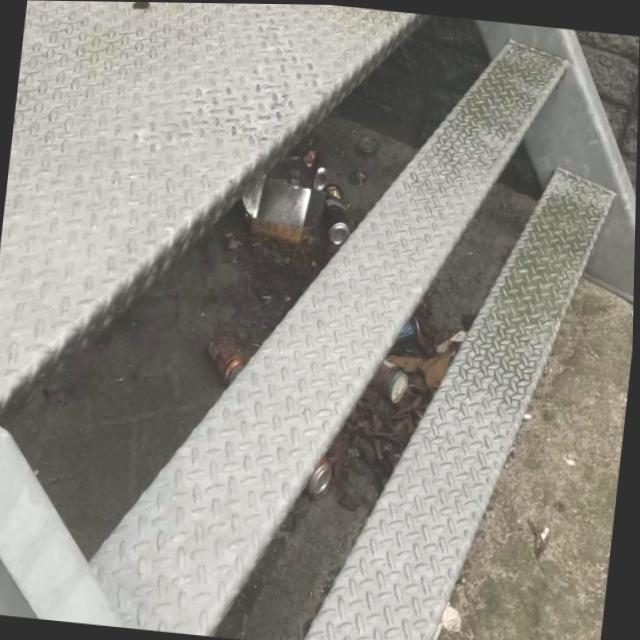Can-Metal: (238, 170, 329, 246), (204, 326, 252, 388), (319, 179, 356, 246), (371, 356, 412, 403), (299, 146, 333, 190), (309, 453, 336, 495), (395, 312, 423, 343)
Paper: (432, 597, 466, 640), (436, 325, 468, 356)
